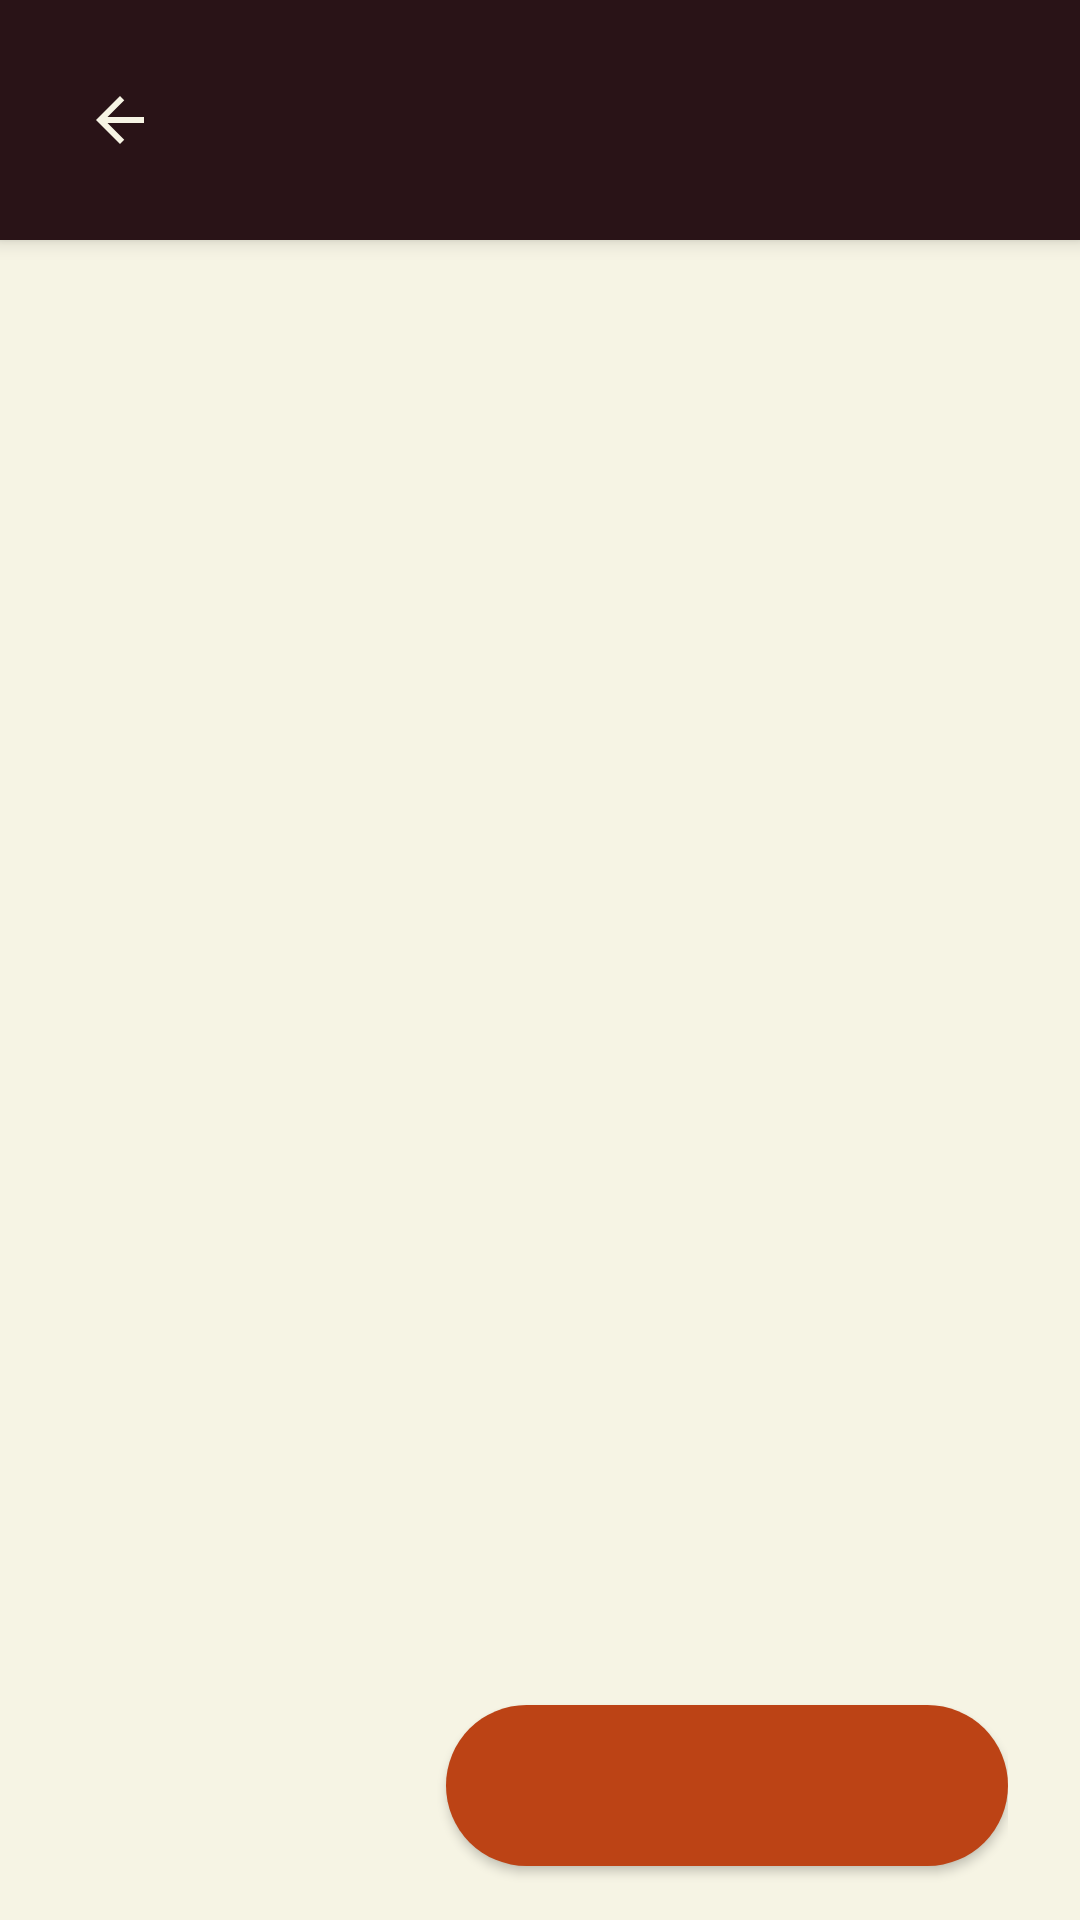

Point at icon controls on the screen. Image size 1080x1920, points as point (x, y).
Til baka: point (120, 120)
